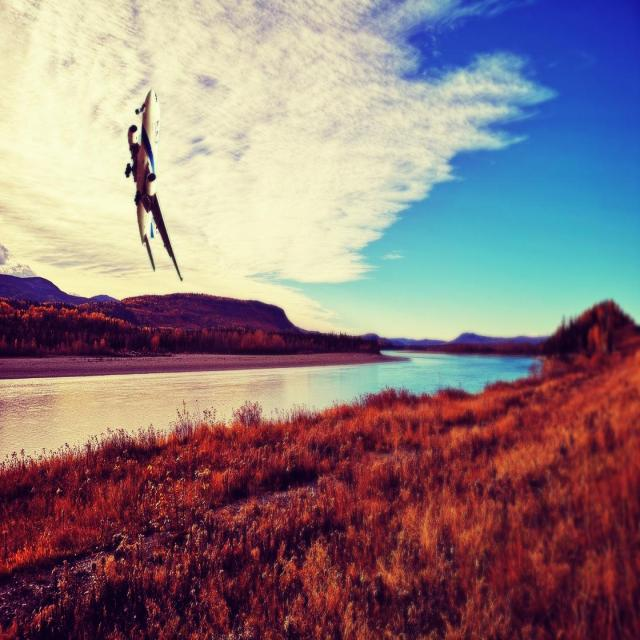airplane: (124, 88, 183, 281)
